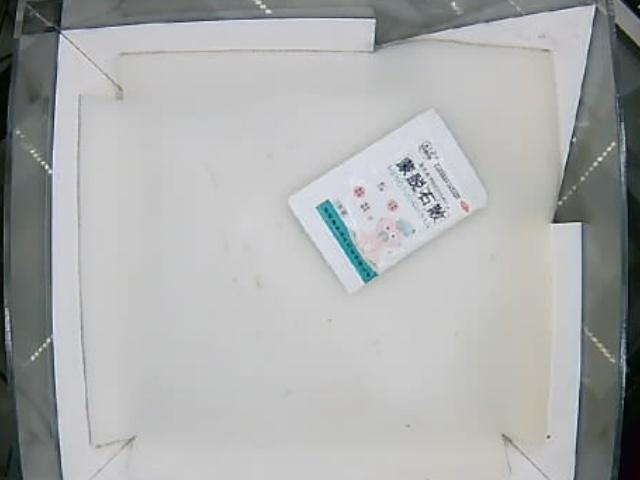Medicine: (287, 108, 490, 293)
